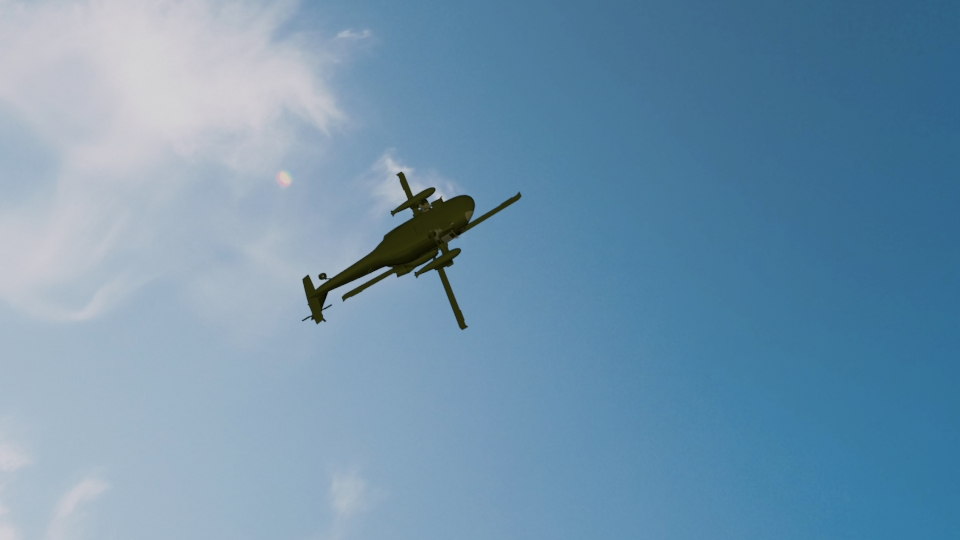heli: (299, 169, 524, 329)
